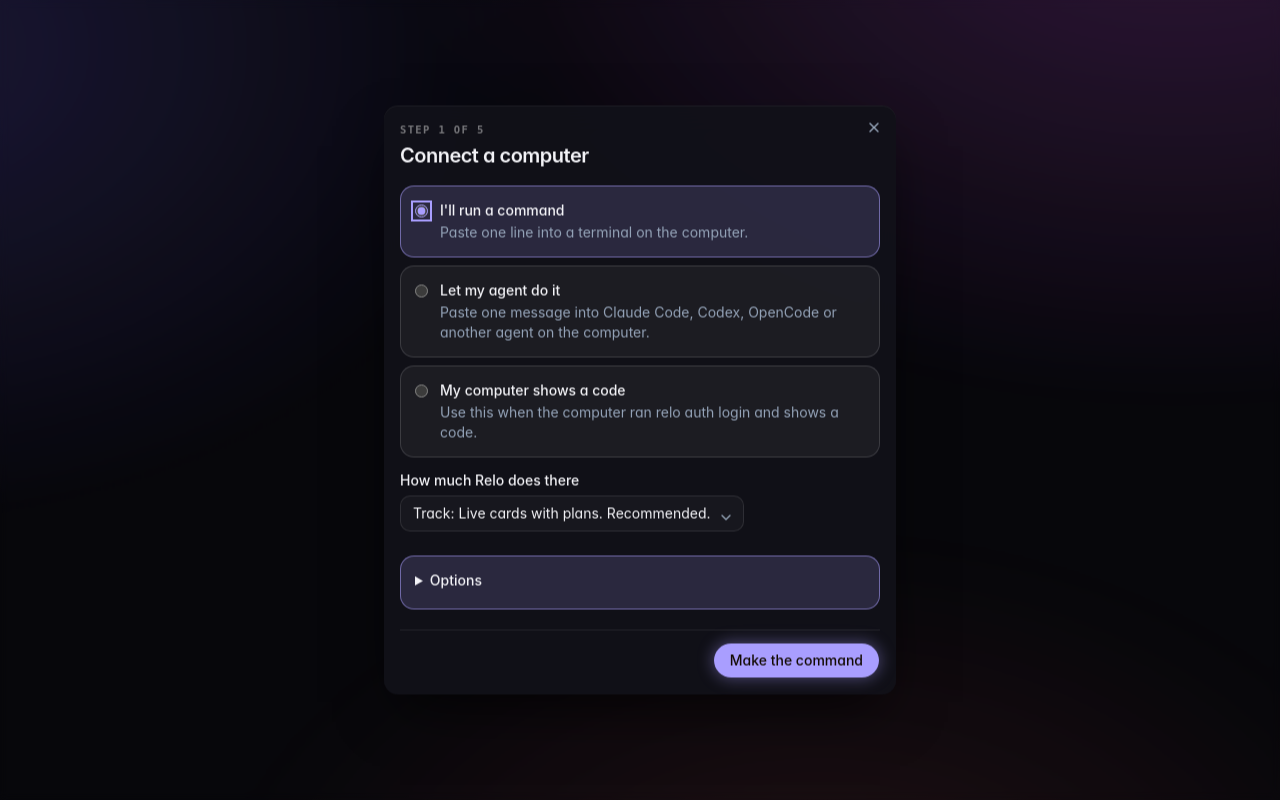
it: Connect a computer wizard › asks how first, then shows one line to copy and starts waiting at once
Expected: the radio button labelled "I'll run a command" is checked, top-left (415, 204), bottom-right (428, 218)
Click the button "Make the command" at (796, 660), box top-left (713, 642), bottom-right (880, 678)
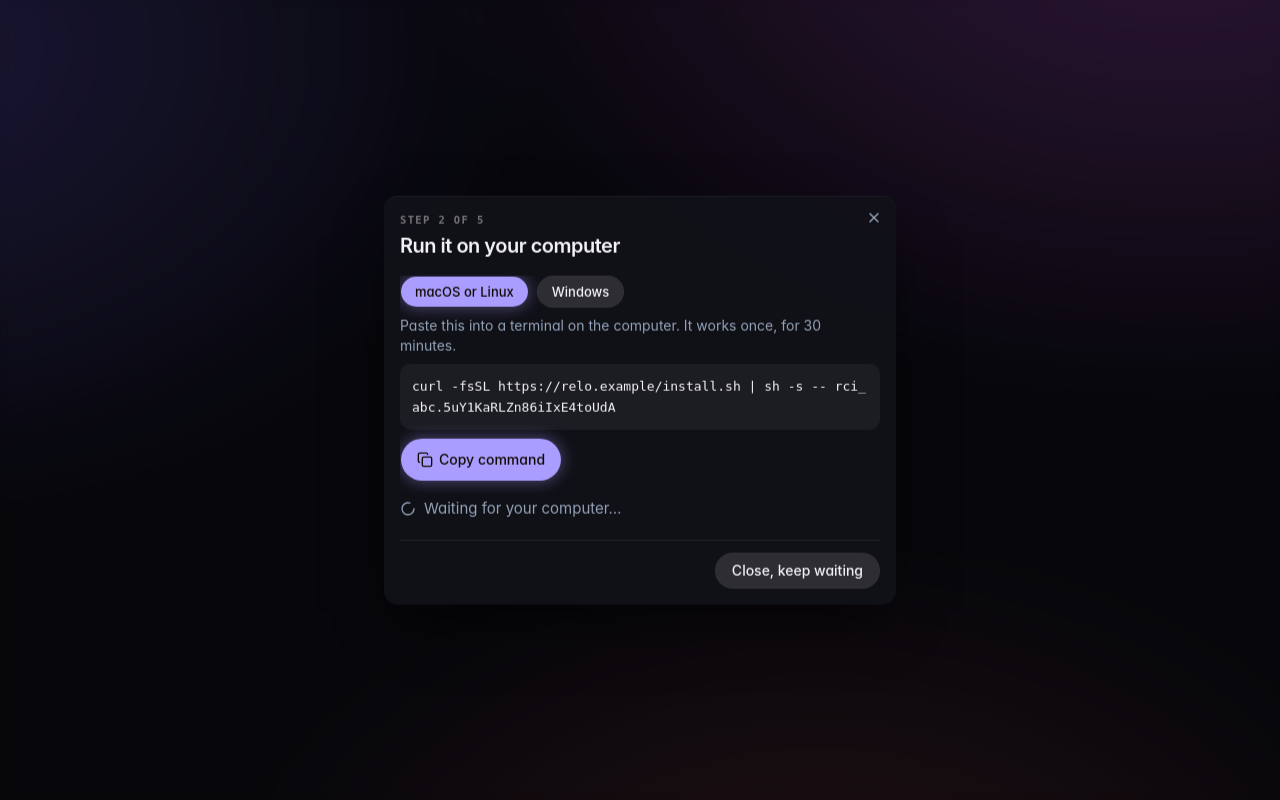
Expected: the text "install.sh | sh -s -- rci_abc" is shown, top-left (412, 379), bottom-right (866, 415)
Expected: the button "Copy command" is shown, top-left (400, 438), bottom-right (562, 482)
Expected: the text "Waiting for your computer…" is shown, top-left (424, 498), bottom-right (621, 519)
